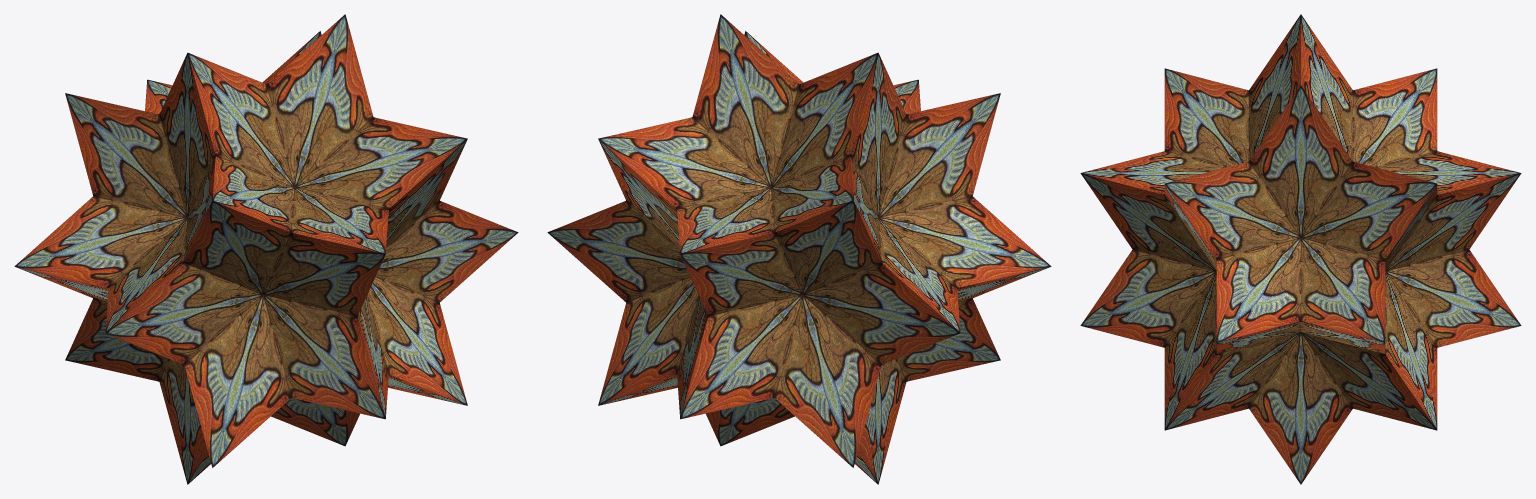
The model's file is RhombicHexecontahedron10.obj.
The picture shows the model from 3 angles, left to right: view 1: azimuth 30°, elevation 25°; view 2: azimuth 150°, elevation 25°; view 3: azimuth 270°, elevation 25°; orthographic projection. The views are drawn at different scales.
Bounding box in the file's own units: 4.45 × 4.45 × 4.45.
1 material, 1 textured.
